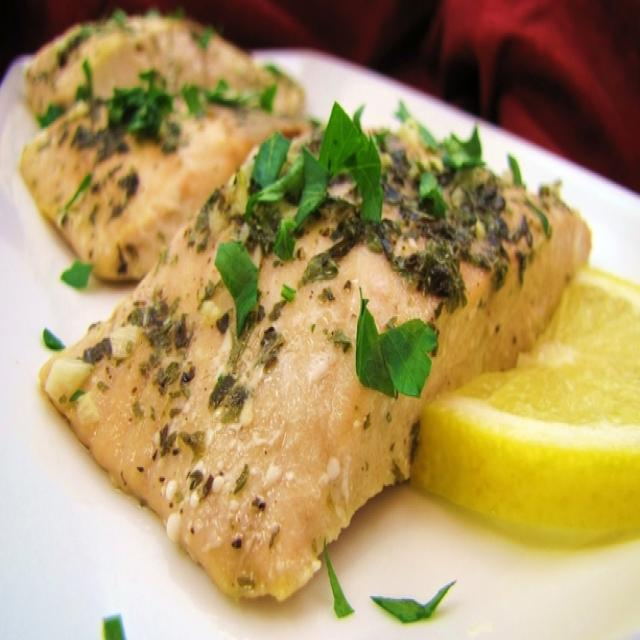熟制海鲜: (6, 5, 600, 613)
